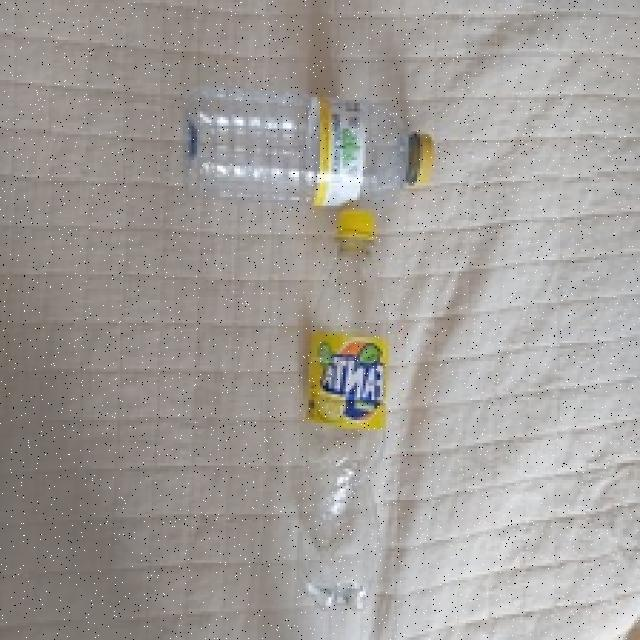plastic: (295, 206, 399, 614), (176, 88, 444, 206)
